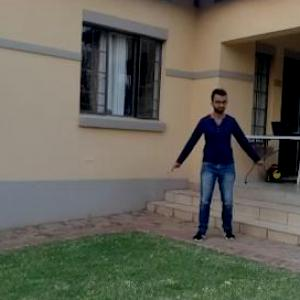land: (166, 95, 262, 247)
